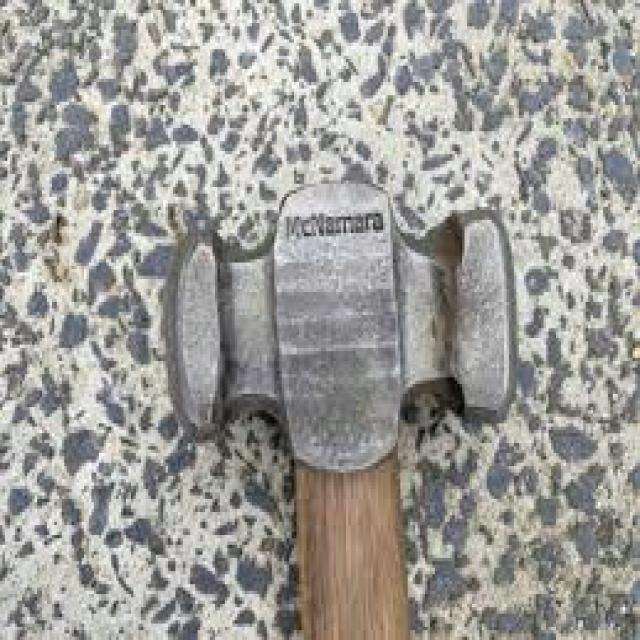hammer: (157, 170, 522, 640)
